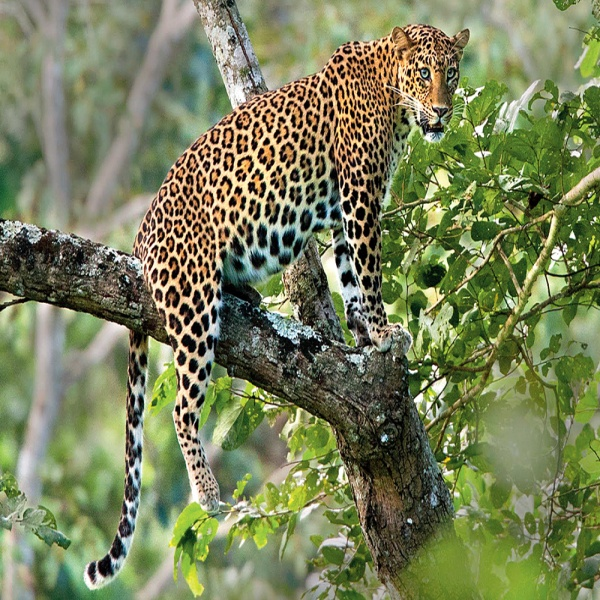Leopard: (85, 20, 483, 592)
